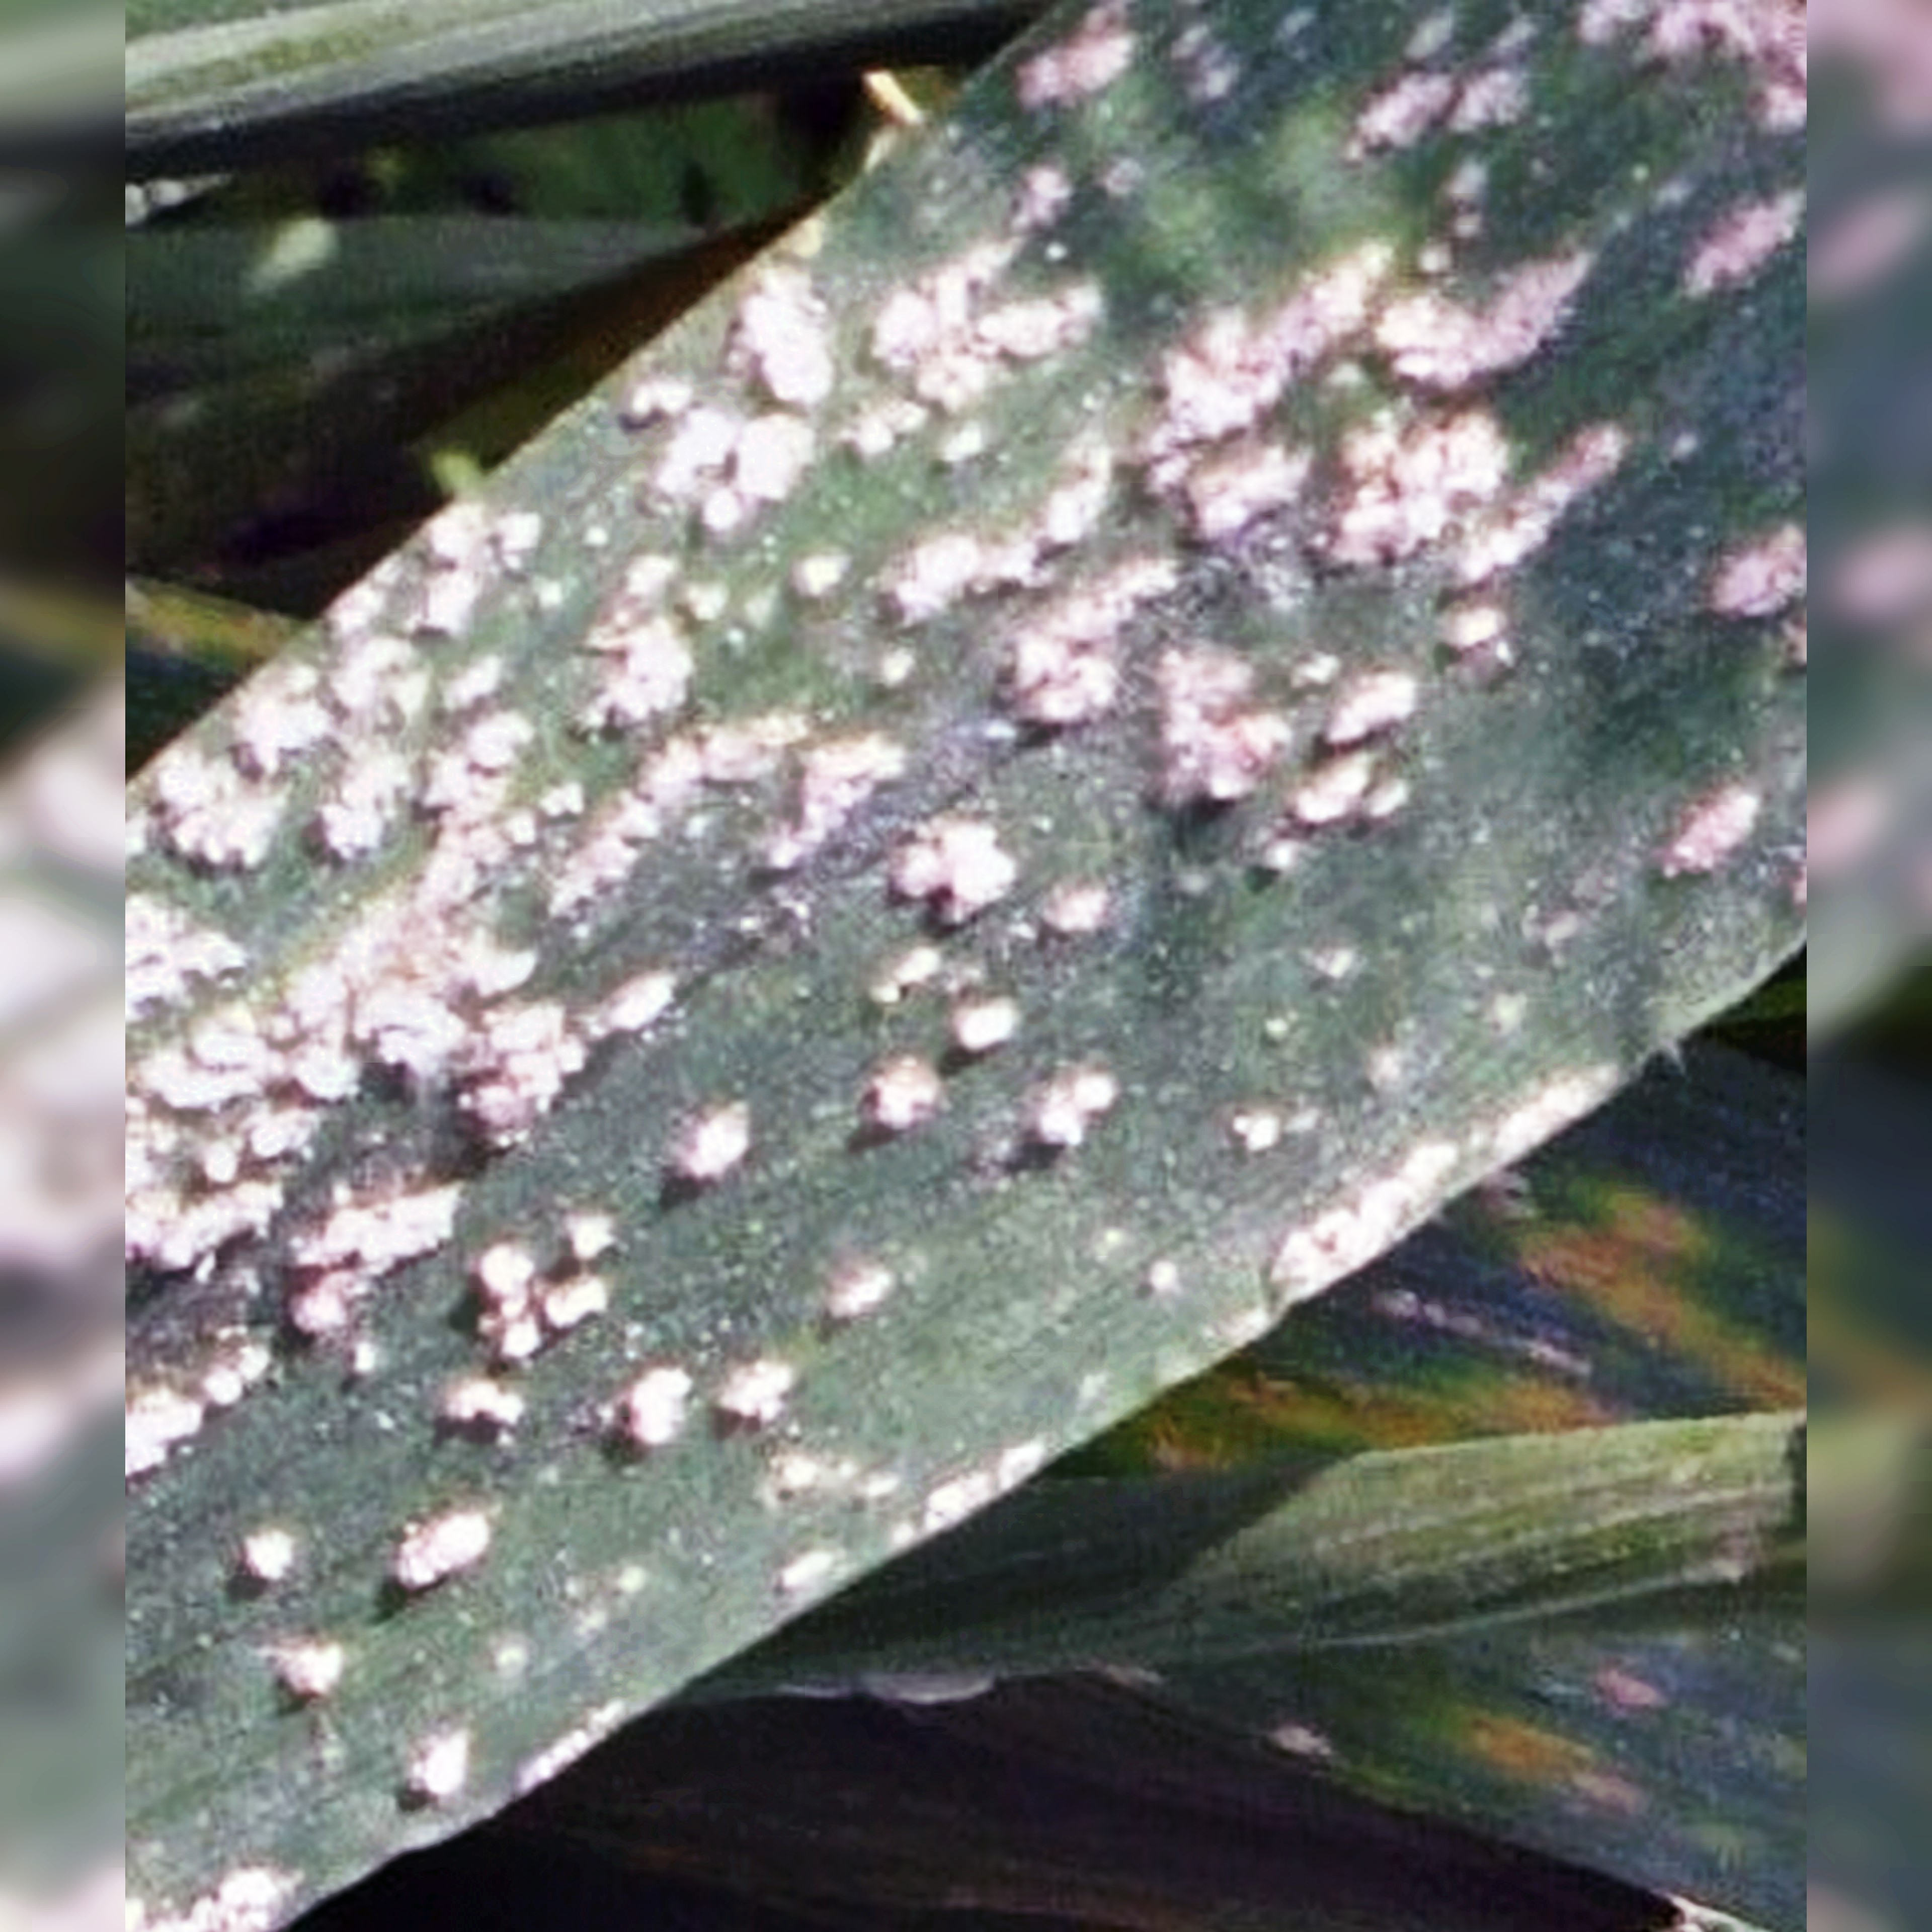Powdery Mildew: (295, 154, 1467, 1599)
